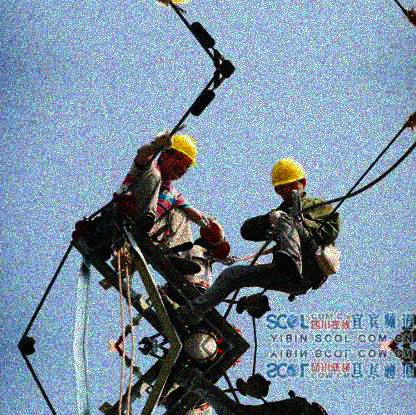helmet: (160, 130, 197, 179), (271, 159, 306, 201)
